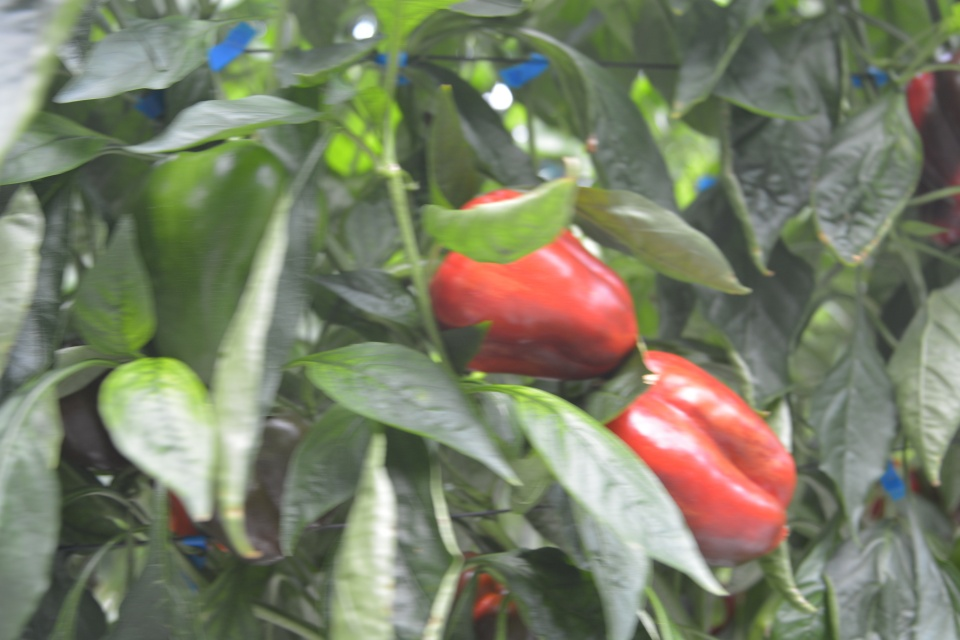fruit: (136, 142, 325, 388), (605, 349, 797, 564), (427, 188, 639, 381), (168, 404, 343, 568), (51, 339, 146, 472), (905, 46, 960, 249), (456, 551, 530, 640)
